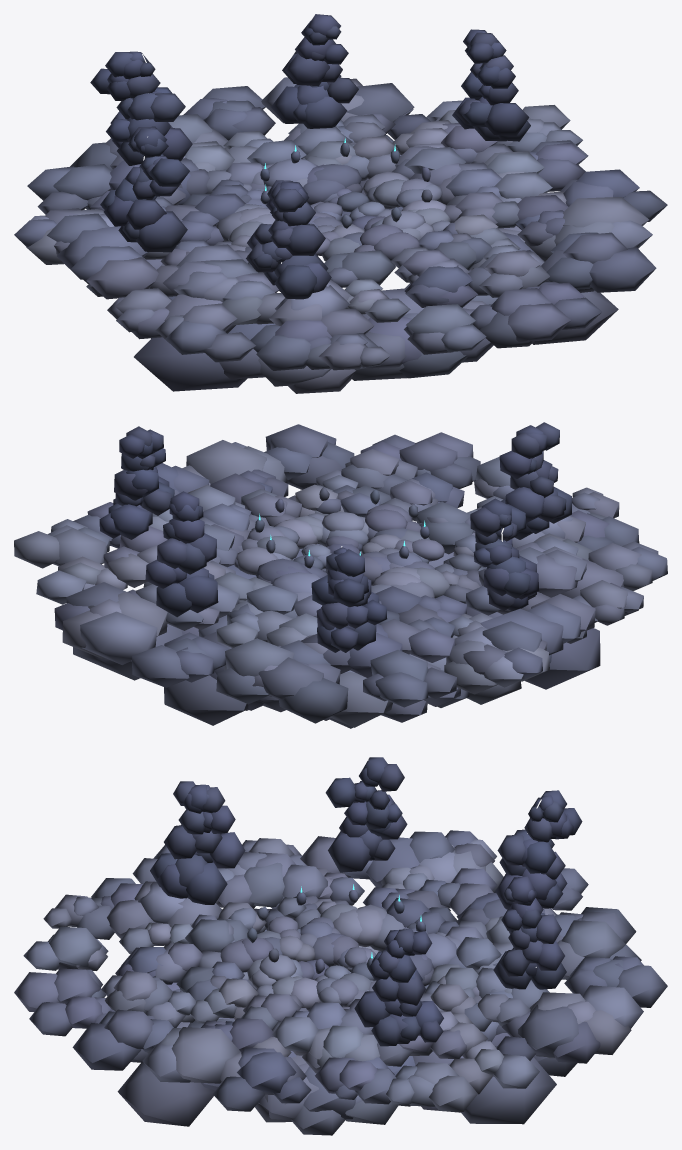
Rendered from journey_stormsky.glb.
3 views of the same model, one above another, from view 1: azimuth 30°, elevation 25°; view 2: azimuth 150°, elevation 25°; view 3: azimuth 270°, elevation 25° (orthographic). The views are drawn at different scales.
Parts seen in each view (by area): view 1: Scenery_Journey Cloud, Scenery_Journey Stone.008; view 2: Scenery_Journey Cloud, Scenery_Journey Stone.008; view 3: Scenery_Journey Cloud, Scenery_Journey Stone.008.
Part boxes in pixels (x1,y1,x2,y2): Scenery_Journey Cloud: [14, 14, 667, 393]; Scenery_Journey Stone.008: [260, 142, 432, 228]; Scenery_Journey Cloud: [14, 422, 667, 728]; Scenery_Journey Stone.008: [255, 487, 429, 568]; Scenery_Journey Cloud: [14, 757, 667, 1135]; Scenery_Journey Stone.008: [247, 889, 425, 973].
Size of the model in its own units: 161 by 61.82 by 168.
